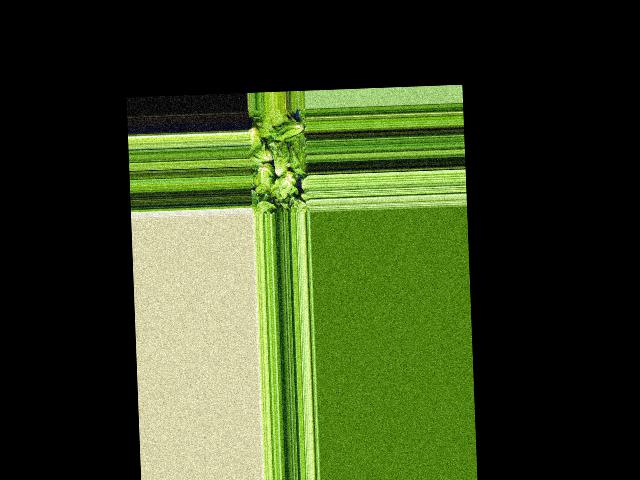lettuce: (248, 122, 263, 157)
